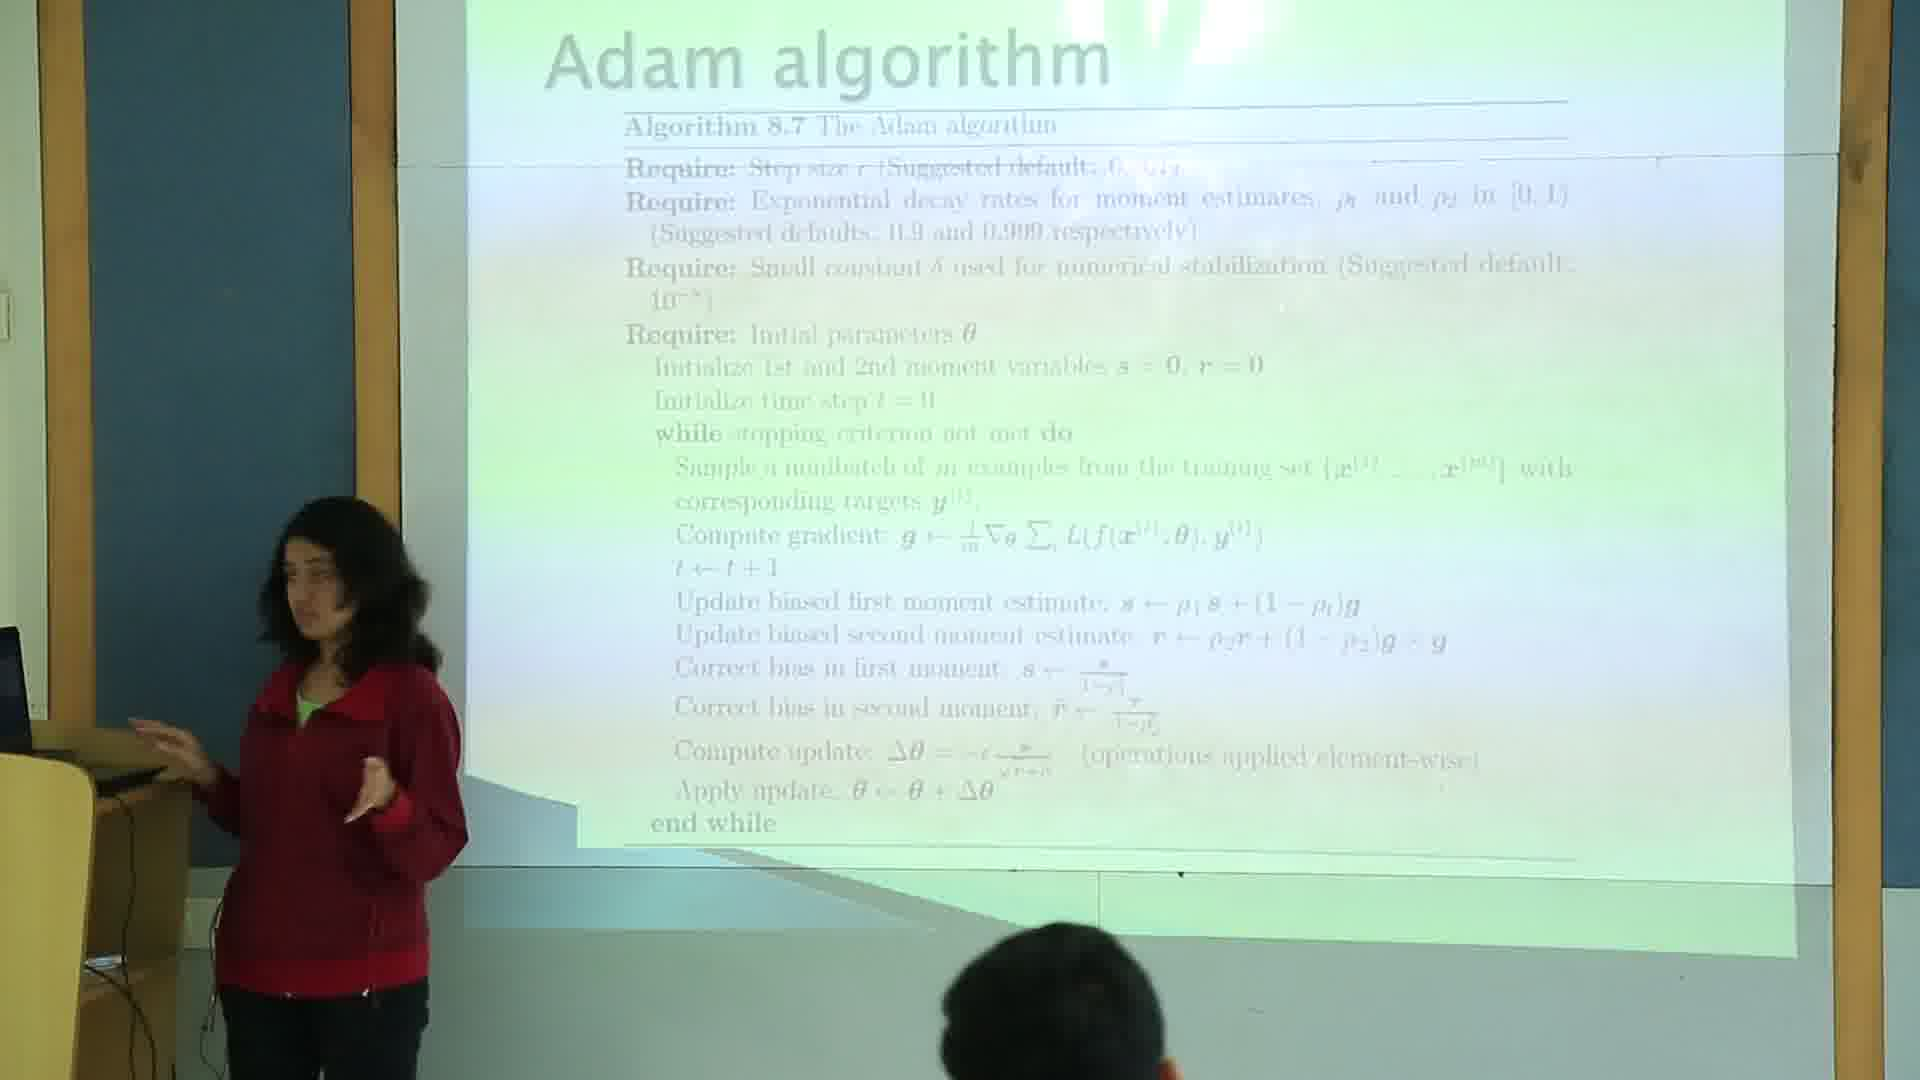eq: (901, 516, 1270, 563), (1149, 628, 1453, 659), (1116, 588, 1366, 625), (884, 735, 1062, 775), (1010, 654, 1143, 695), (1051, 702, 1171, 737), (661, 553, 796, 582), (851, 779, 1000, 803)
